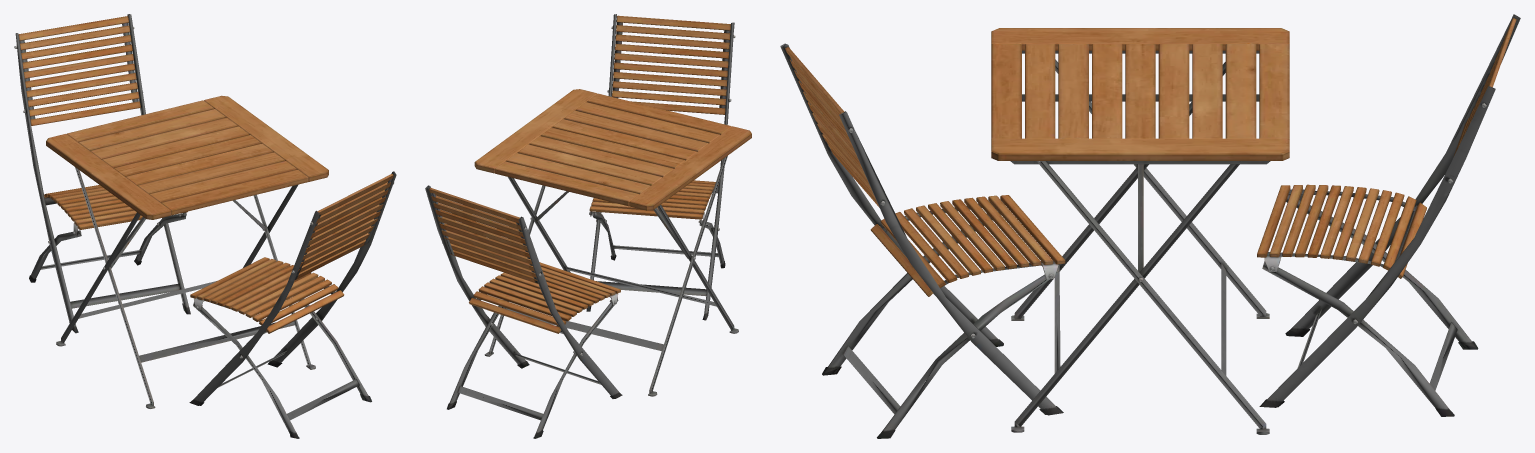
Rendered from outdoor_table_chair_set_01.glb.
3 views of the same model, side by side, from view 1: azimuth 30°, elevation 25°; view 2: azimuth 150°, elevation 25°; view 3: azimuth 270°, elevation 25° (orthographic). The views are drawn at different scales.
Parts seen in each view (by area): view 1: outdoor_table_chair_set_01_chair_01, outdoor_table_chair_set_01_table; view 2: outdoor_table_chair_set_01_chair_01, outdoor_table_chair_set_01_table; view 3: outdoor_table_chair_set_01_table, outdoor_table_chair_set_01_chair_01.
Boxes of the visible parts, bbox=[...] form: outdoor_table_chair_set_01_chair_01: bbox=[14, 14, 396, 438]; outdoor_table_chair_set_01_table: bbox=[46, 95, 328, 408]; outdoor_table_chair_set_01_chair_01: bbox=[425, 14, 735, 438]; outdoor_table_chair_set_01_table: bbox=[474, 89, 751, 396]; outdoor_table_chair_set_01_table: bbox=[991, 28, 1289, 434]; outdoor_table_chair_set_01_chair_01: bbox=[780, 14, 1520, 438].
Bounding box in the file's own units: 0.7404 × 0.8554 × 1.72.
Materials: 2 (2 with a texture image).
